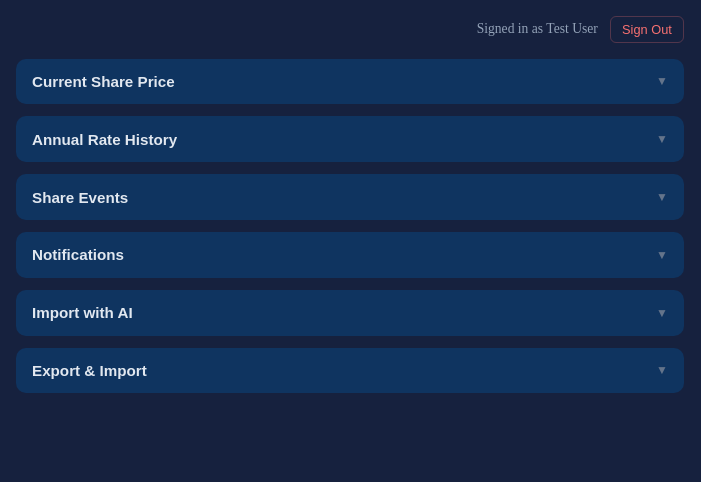
Test: SettingsTab › opens price section when clicked
Click the text "Current Share Price". click: (103, 82)
box: [32, 73, 175, 90]
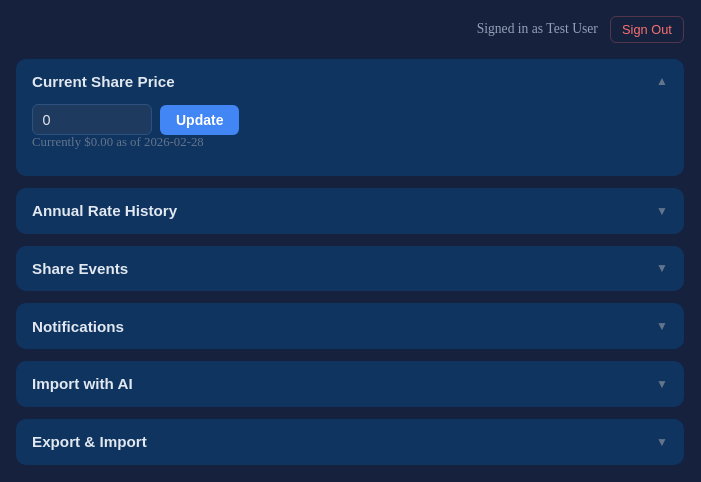
Check: the number field with test id "price-input" is shown, box [32, 104, 152, 135]
